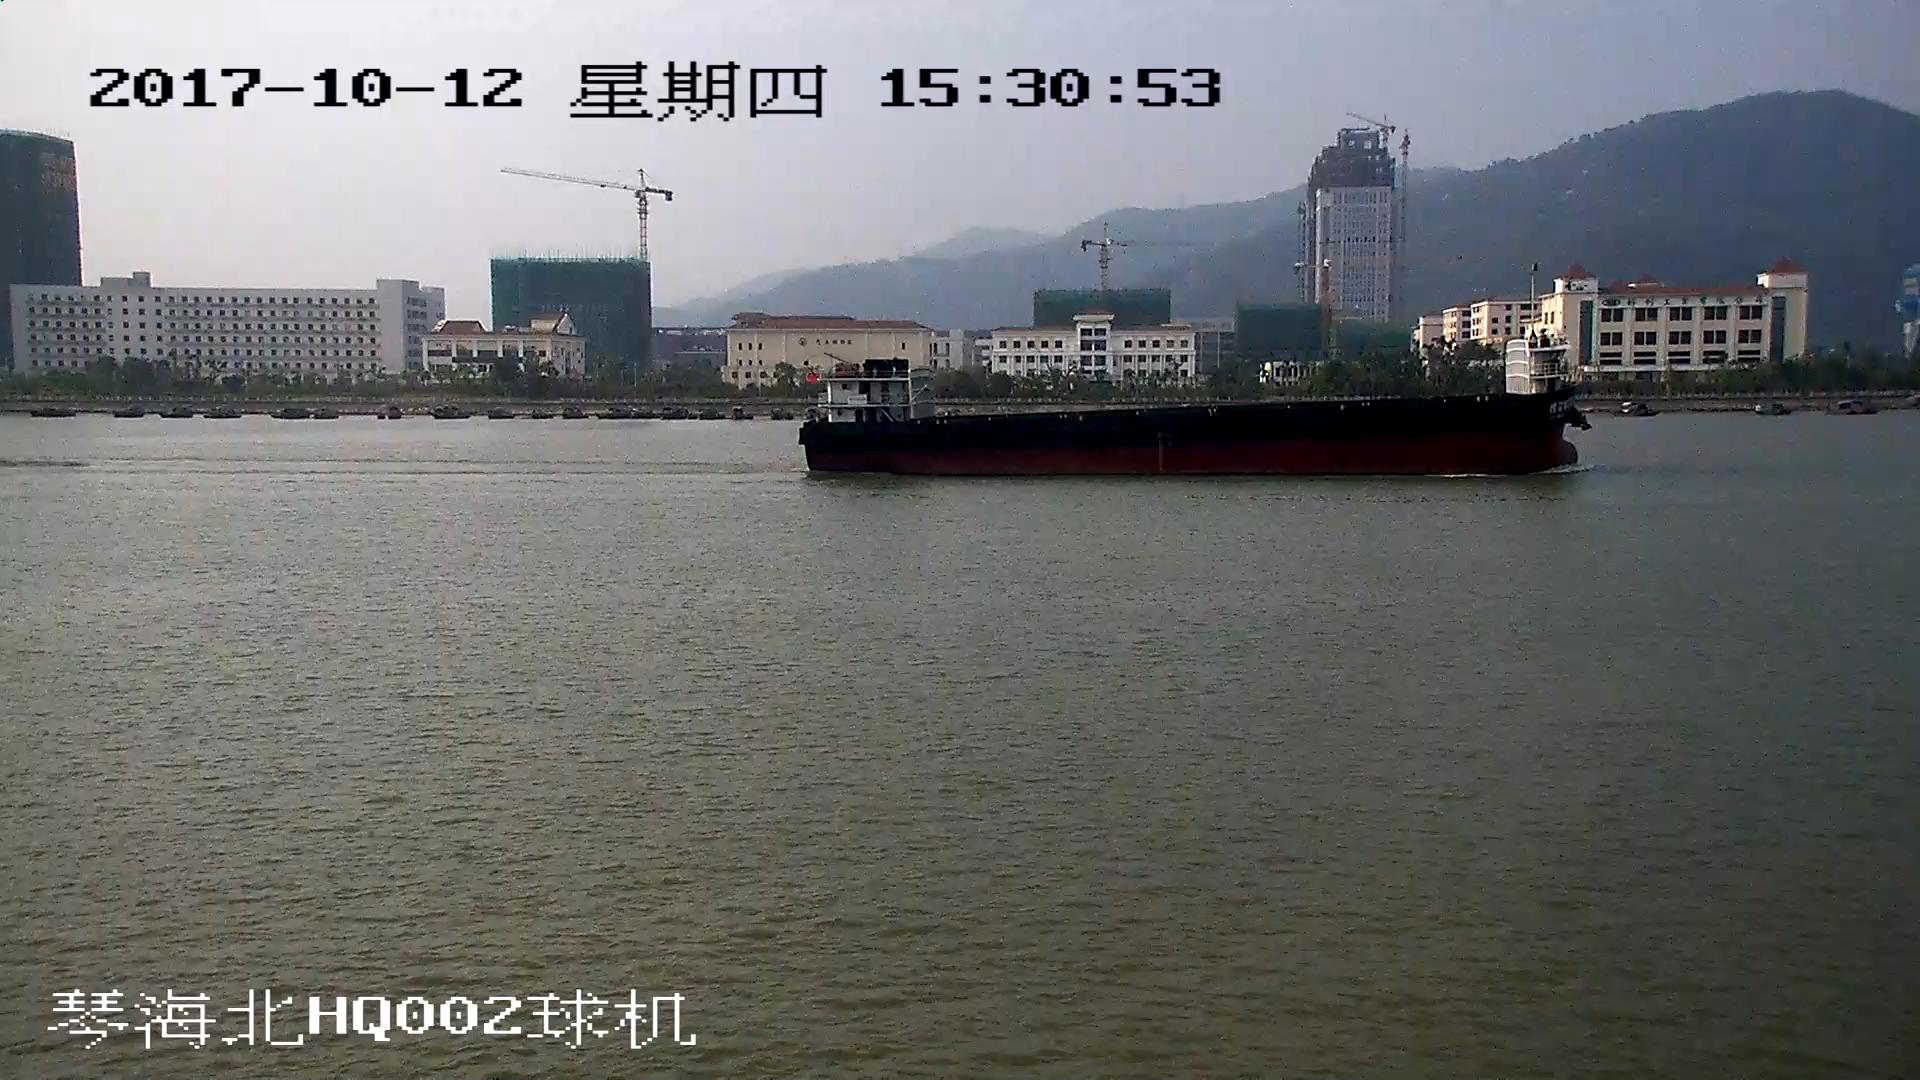general cargo ship: (806, 315, 1587, 476)
